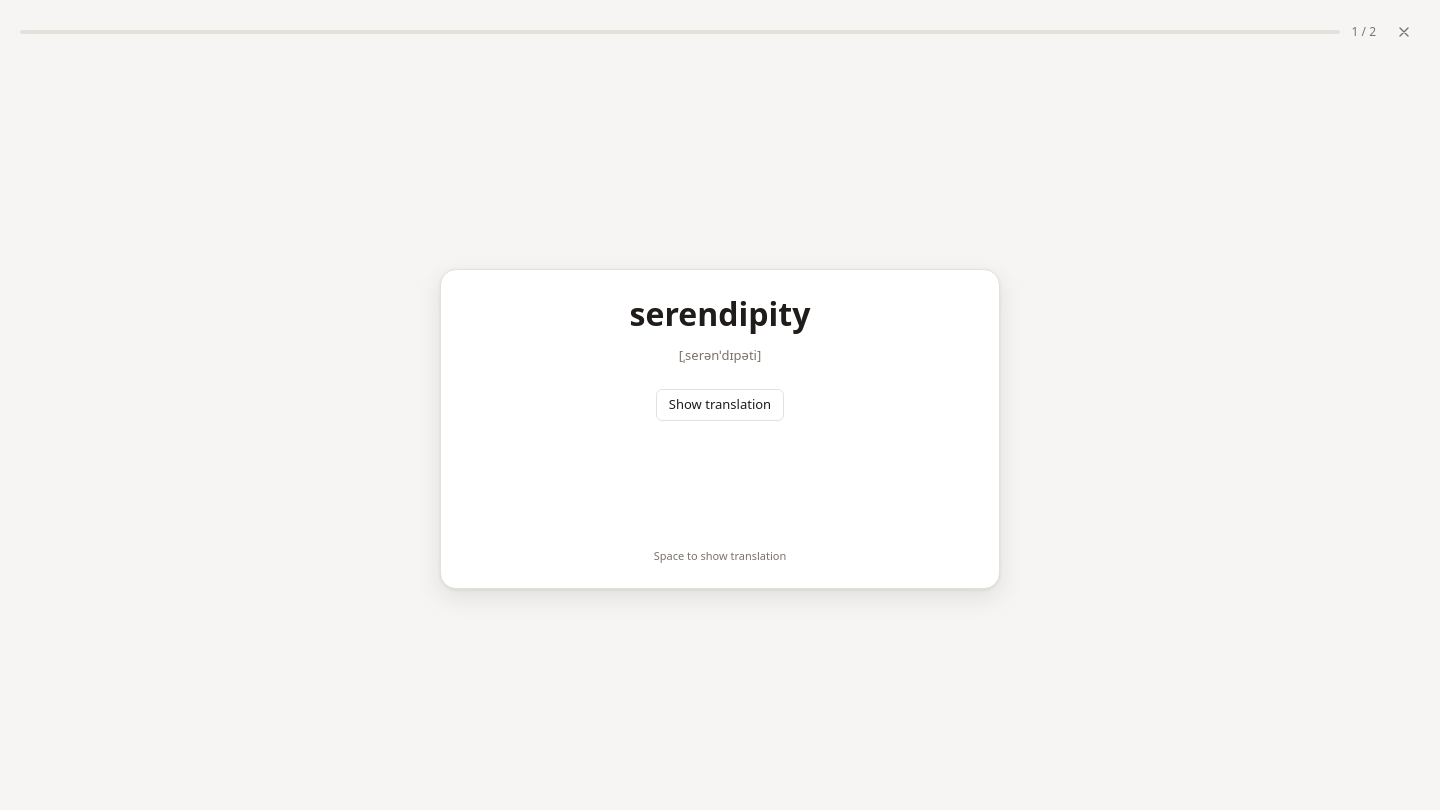
ReviewSession › grade "Good" records the review and advances the queue
The image size is (1440, 810).
Press Space
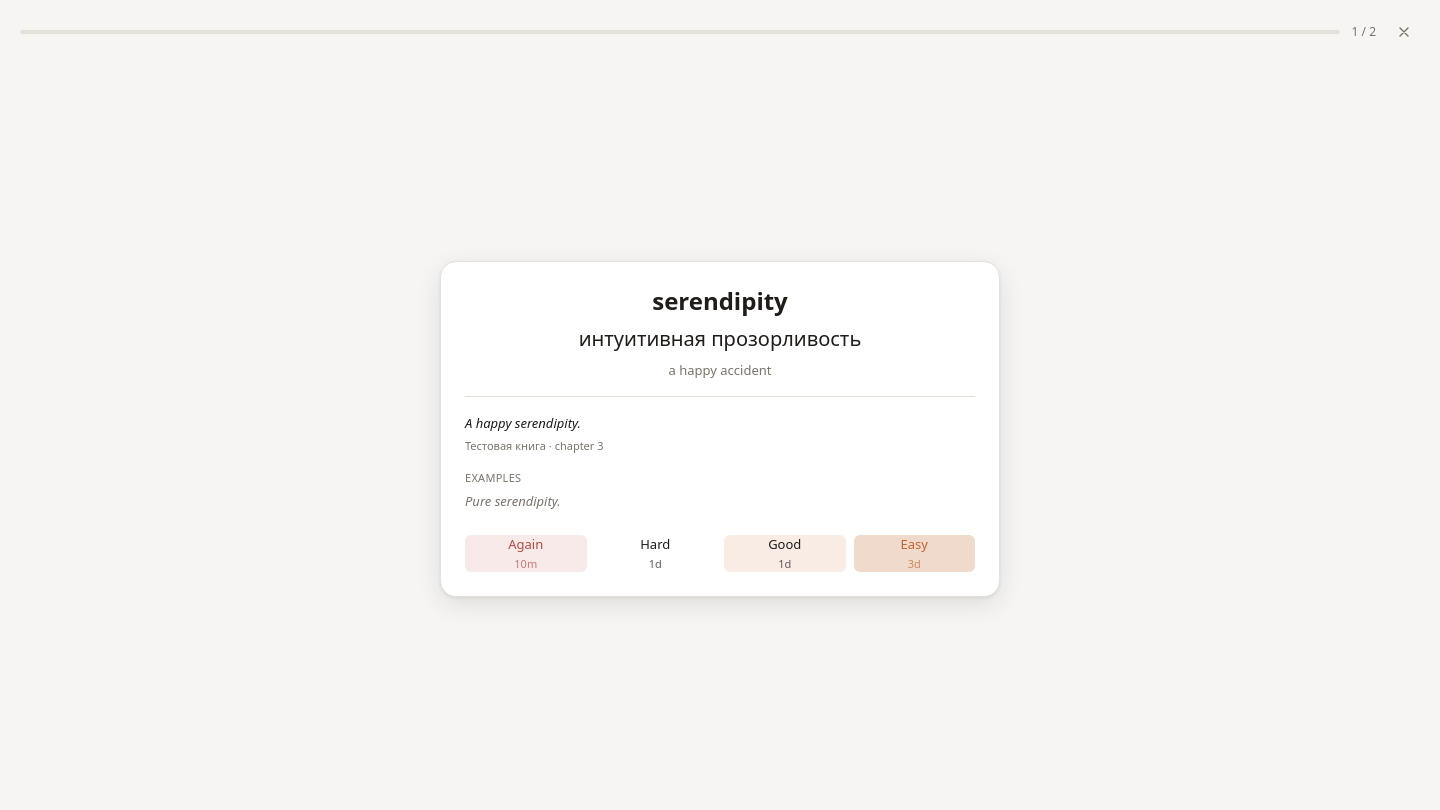
Click the button with test id "grade-good" at (785, 553), box [724, 535, 846, 572]
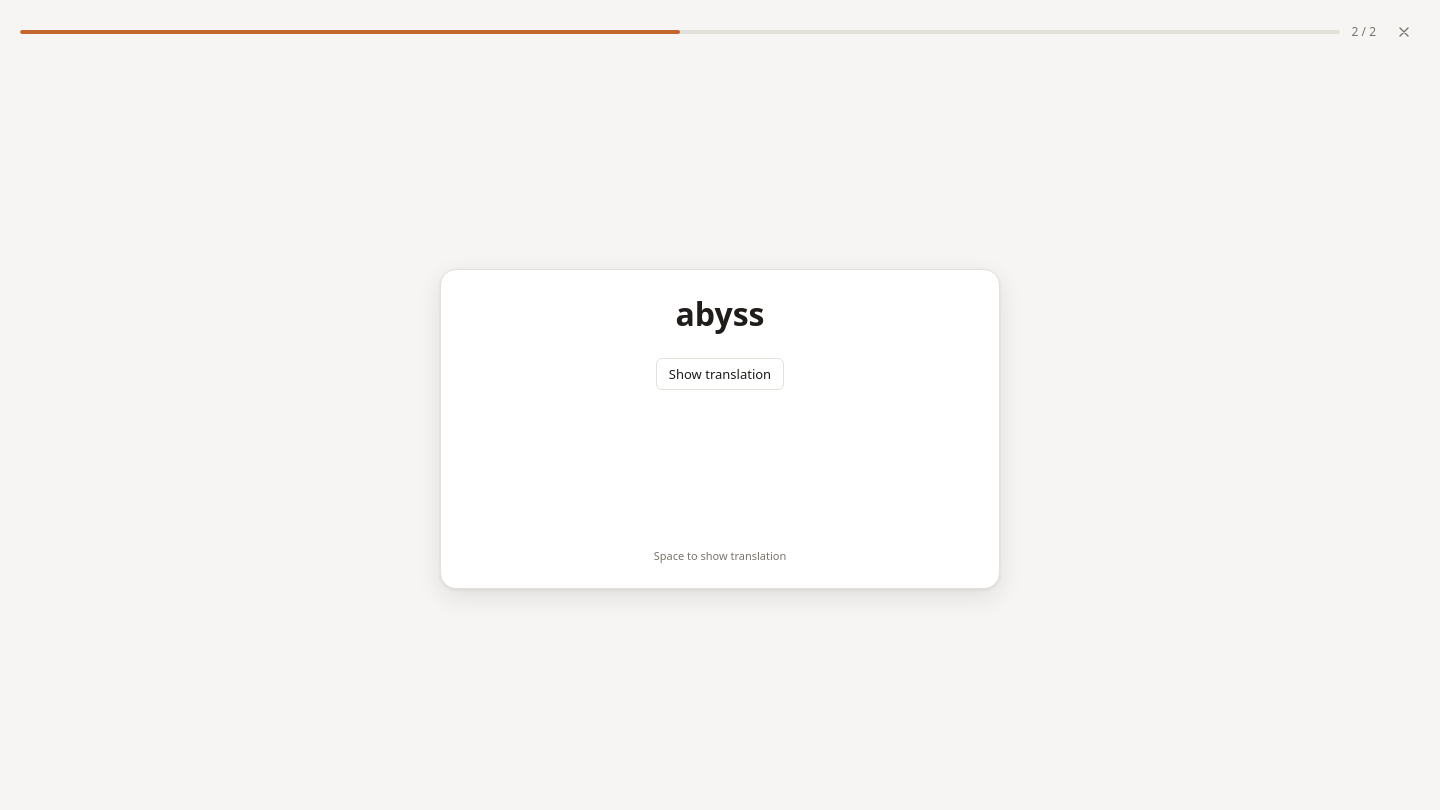
Now the text "abyss" is shown, box [676, 294, 764, 334]
Now the text "2 / 2" is shown, box [1352, 23, 1376, 41]
